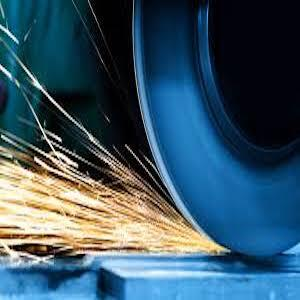heat: (2, 154, 229, 255)
